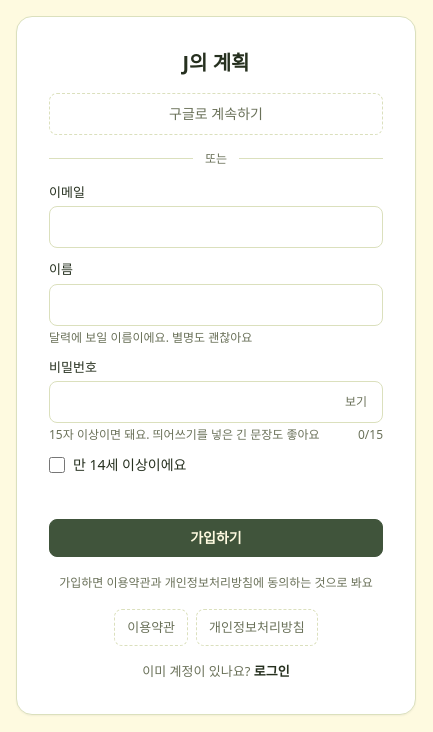
Test: 가입 화면 /signup (US-33, D-079 · SITE-05b) › 서버에 못 닿으면 "잠시 문제가 있어요…", 쓴 내용은 그대로
Type "qa-fe-01@example.com" into the field labelled "이메일".
click(216, 227); type("qa-fe-01@example.com")  # box [49,206,383,248]
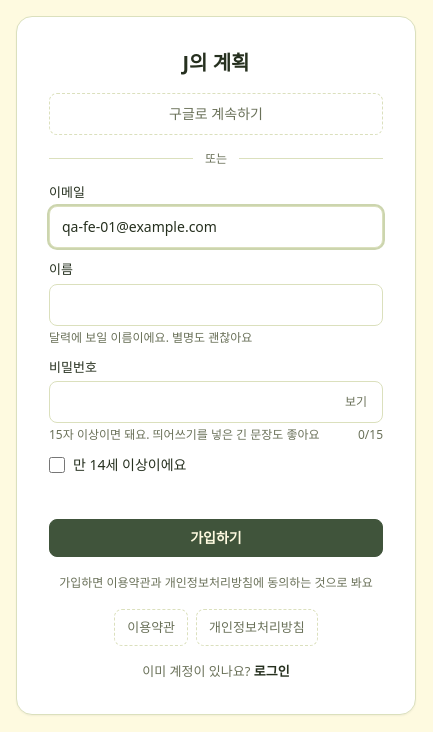
Type "검수" into the field labelled "이름".
click(216, 304); type("검수")  # box [49,284,383,326]
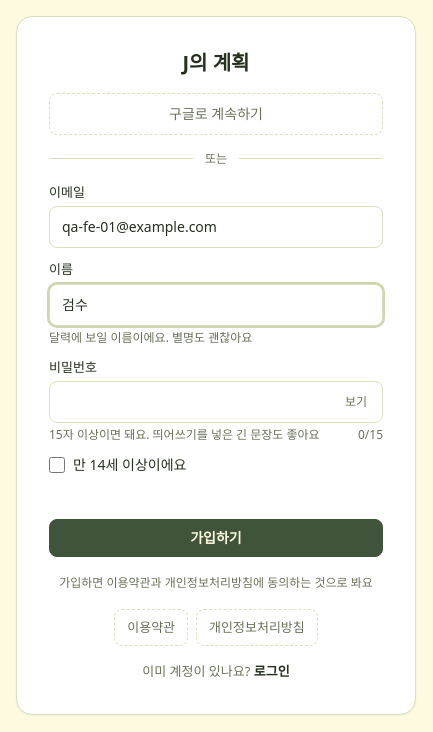
Type "긴 문장 비밀번호 열다섯자 넘음" into the password field labelled "비밀번호".
click(216, 402); type("긴 문장 비밀번호 열다섯자 넘음")  # box [49,381,383,423]
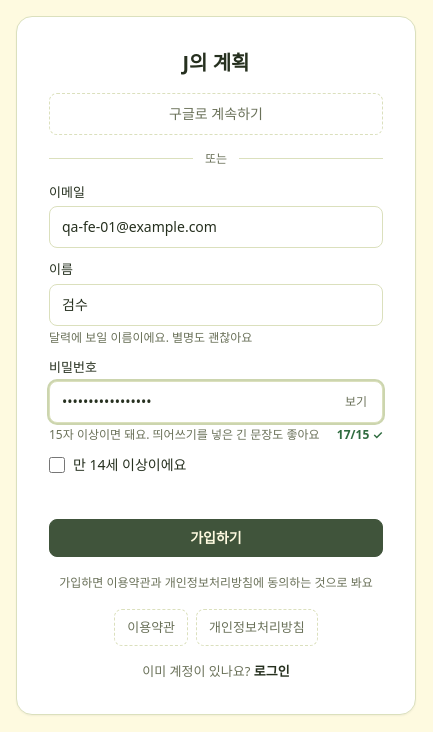
Click the checkbox labelled "만 14세 이상이에요".
click(57, 465)  # box [49,457,65,473]
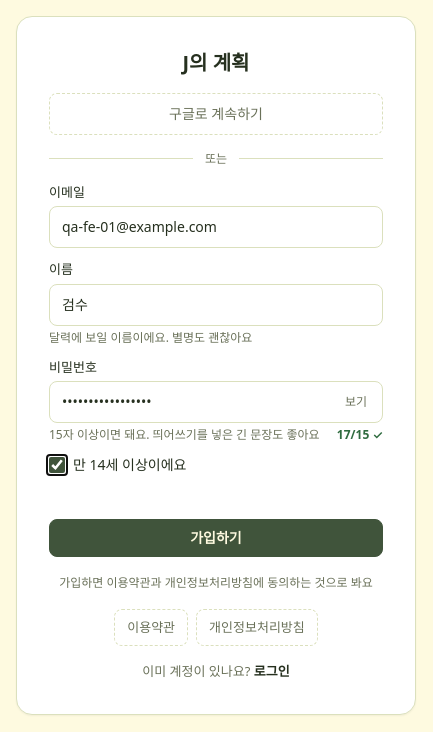
Click the button "가입하기".
click(216, 538)  # box [49,519,383,557]
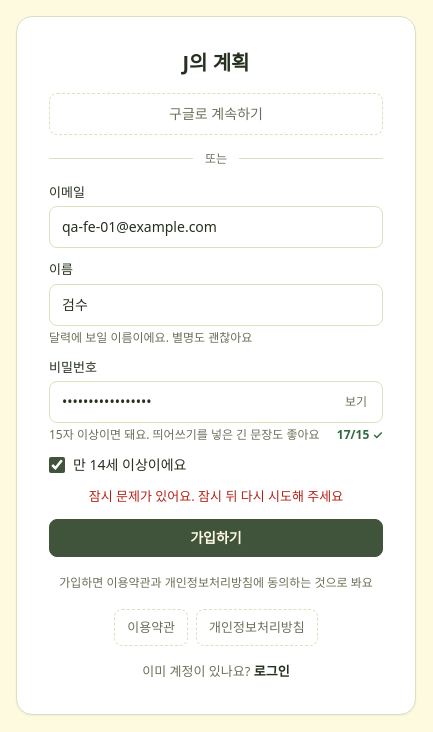
Result: the message reads "잠시 문제가 있어요. 잠시 뒤 다시 시도해 주세요" at [89,487,343,505]
